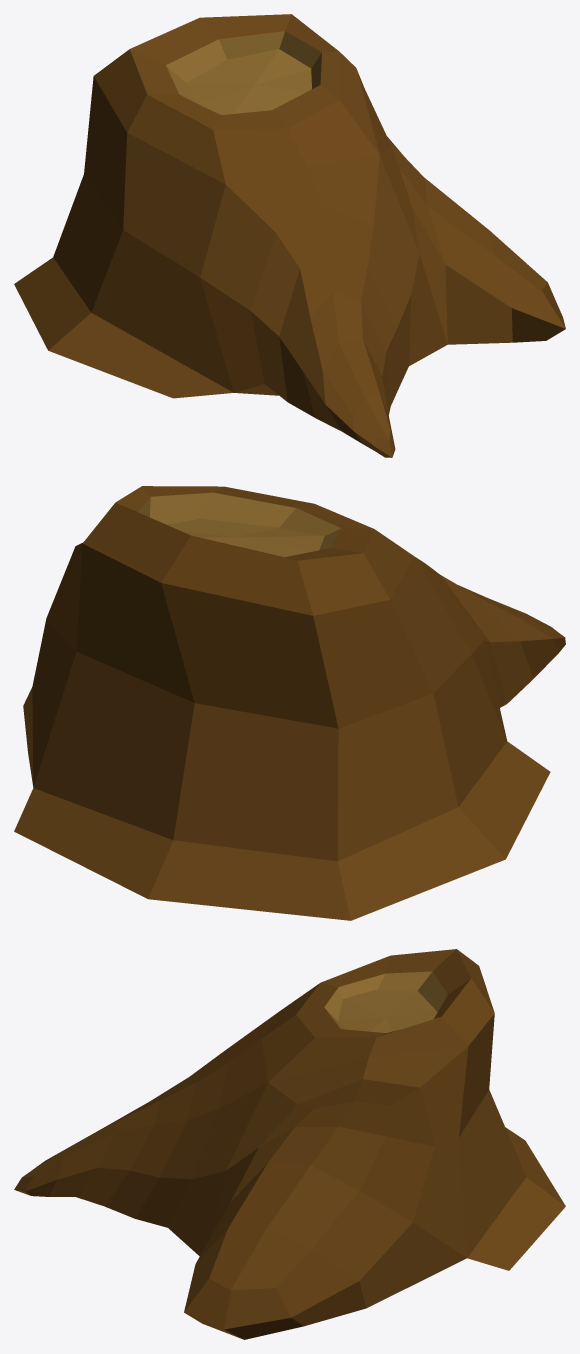
Rendered from Log_3.fbx.
3 renders of one model, top to bottom at view 1: azimuth 30°, elevation 25°; view 2: azimuth 150°, elevation 25°; view 3: azimuth 270°, elevation 25°, orthographic. The views are drawn at different scales.
Parts seen in each view (by area): view 1: Log_3; view 2: Log_3; view 3: Log_3.
Boxes of the visible parts, x1,y1,x2,y2 form: Log_3: (14, 14, 565, 457); Log_3: (14, 486, 565, 920); Log_3: (14, 949, 565, 1339).
Size of the model in its own units: 171 by 105 by 201.
